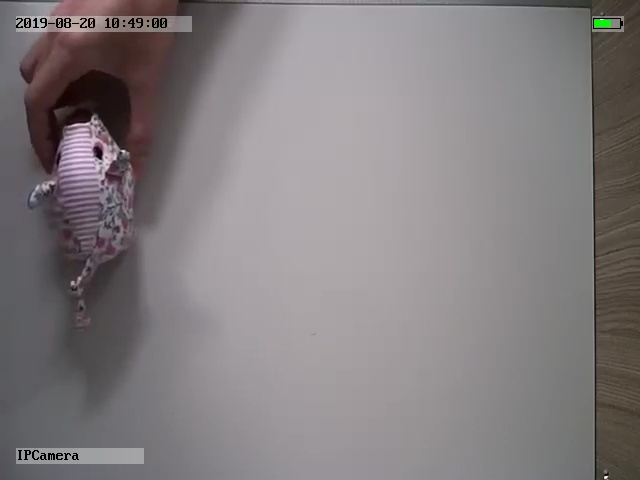pig: (29, 113, 140, 329)
